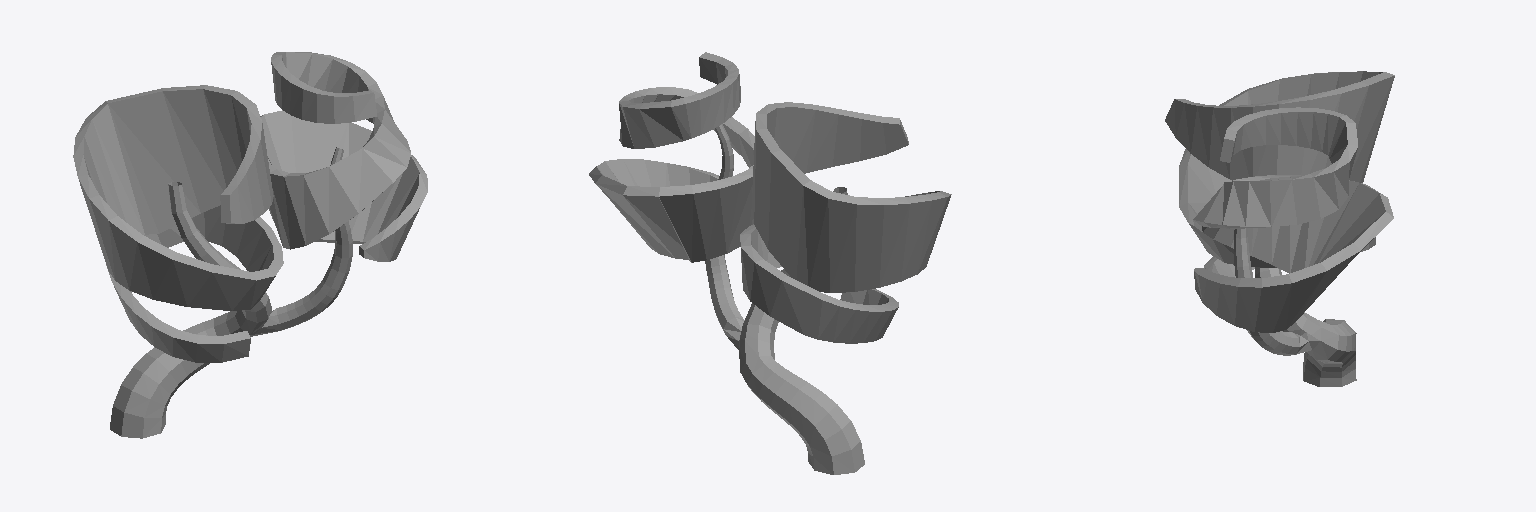
Rendered from Tree_Spiral_3_CUBezierCurve.obj.
3 views of the same model, side by side, from view 1: azimuth 30°, elevation 25°; view 2: azimuth 150°, elevation 25°; view 3: azimuth 270°, elevation 25° (orthographic).
Visible parts, largest first — view 1: Tree_Spiral_3_CUBezierCurve.005; view 2: Tree_Spiral_3_CUBezierCurve.005; view 3: Tree_Spiral_3_CUBezierCurve.005.
Boxes of the visible parts, box(x1,y1,x2,y2) form: Tree_Spiral_3_CUBezierCurve.005: box(73, 52, 427, 438); Tree_Spiral_3_CUBezierCurve.005: box(589, 52, 951, 474); Tree_Spiral_3_CUBezierCurve.005: box(1165, 71, 1394, 386).
Size of the model in its own units: 4.22 by 4.05 by 2.54.